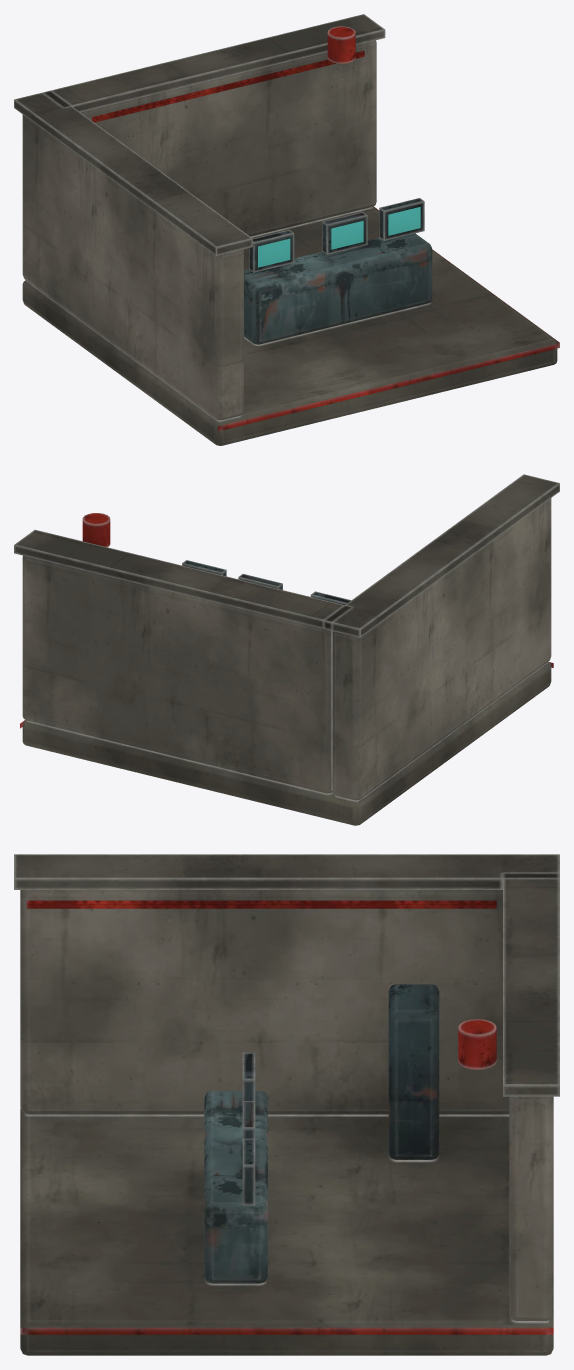
File: security_center.glb
3 renders of one model, top to bottom at view 1: azimuth 30°, elevation 25°; view 2: azimuth 150°, elevation 25°; view 3: azimuth 270°, elevation 25°, orthographic. The views are drawn at different scales.
Parts seen in each view (by area): view 1: te_security_center; view 2: te_security_center; view 3: te_security_center.
Boxes of the visible parts, bbox=[...] form: te_security_center: bbox=[14, 14, 559, 445]; te_security_center: bbox=[14, 474, 559, 825]; te_security_center: bbox=[14, 854, 559, 1355].
Size of the model in its own units: 0.86 by 0.52 by 0.86.
Materials: 1 (1 with a texture image).
